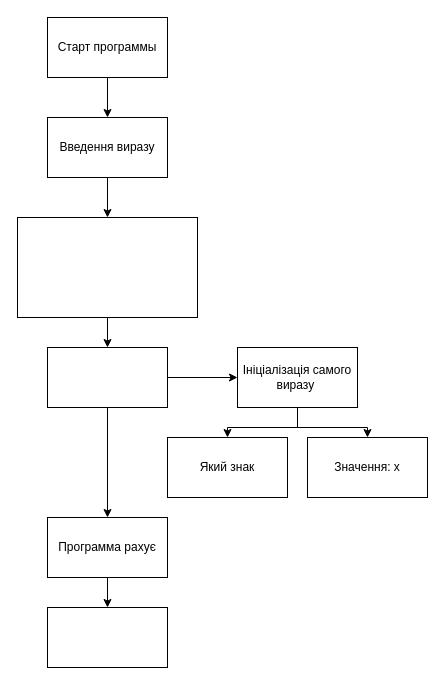
This 445x685 diagram has some shape labels left out. The centre of each missing label's shape, as x and y in pixels:
Введення значення: x: point 107,267
ВІдповідь: point 107,637
Ініціалізація змінних:: point 107,377
